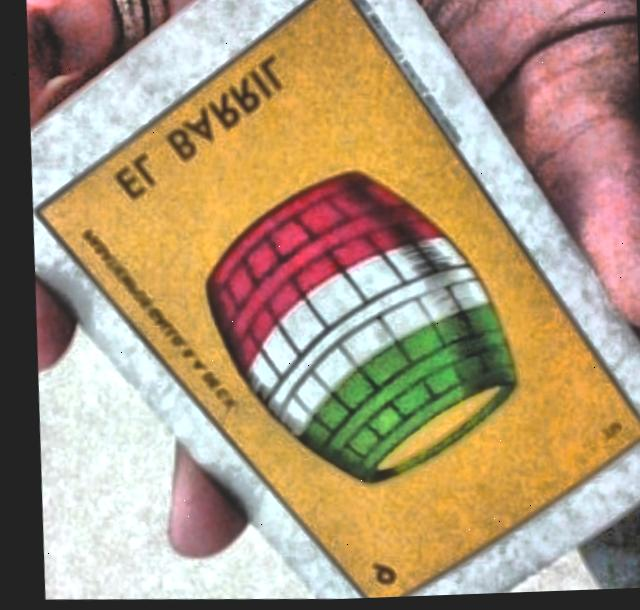El Barril: (37, 0, 639, 601)
